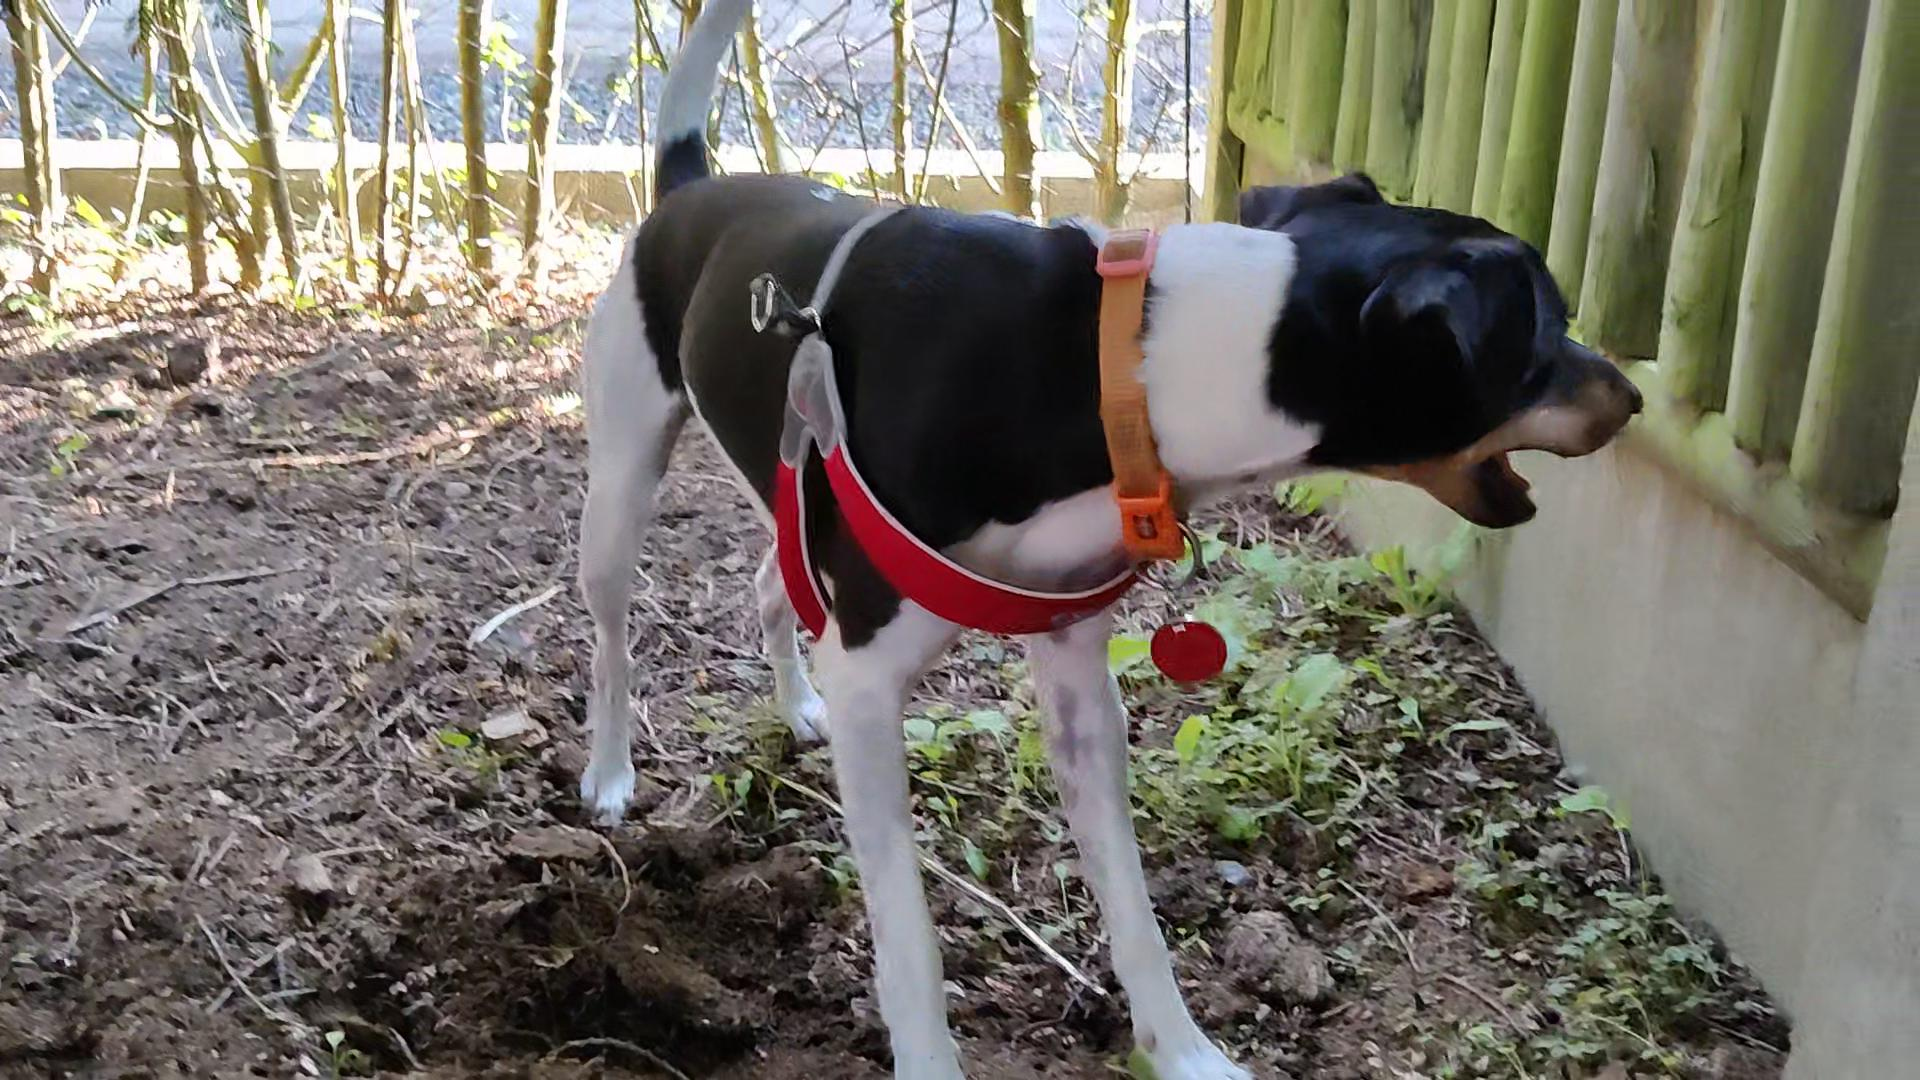Dog: (529, 0, 1650, 1079)
